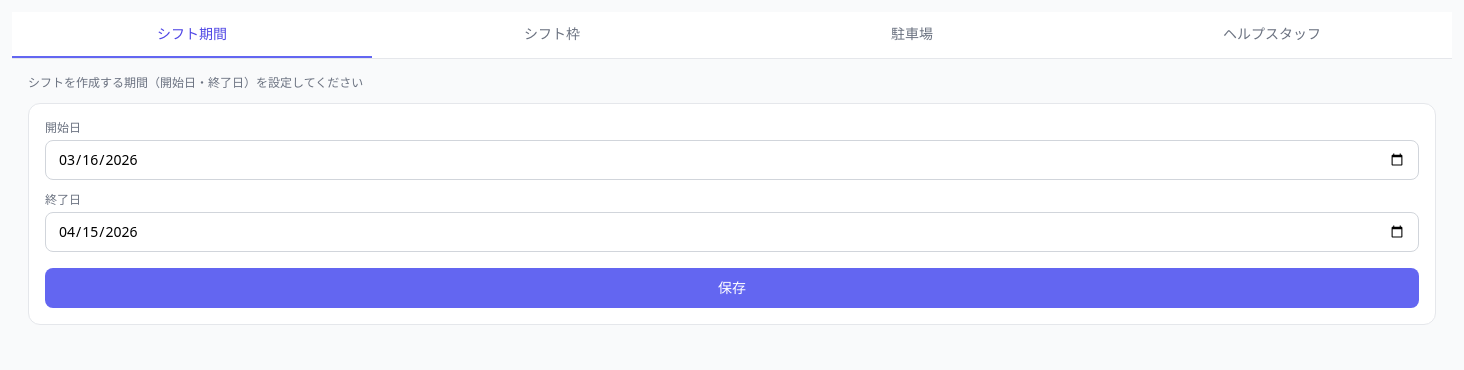
SettingsPage › シフト期間バリデーション › 開始日が終了日より後の場合はエラーが表示され保存されない
This screenshot has width=1464, height=370.
Click the button "シフト期間": point(192, 35) [12,12,372,58]
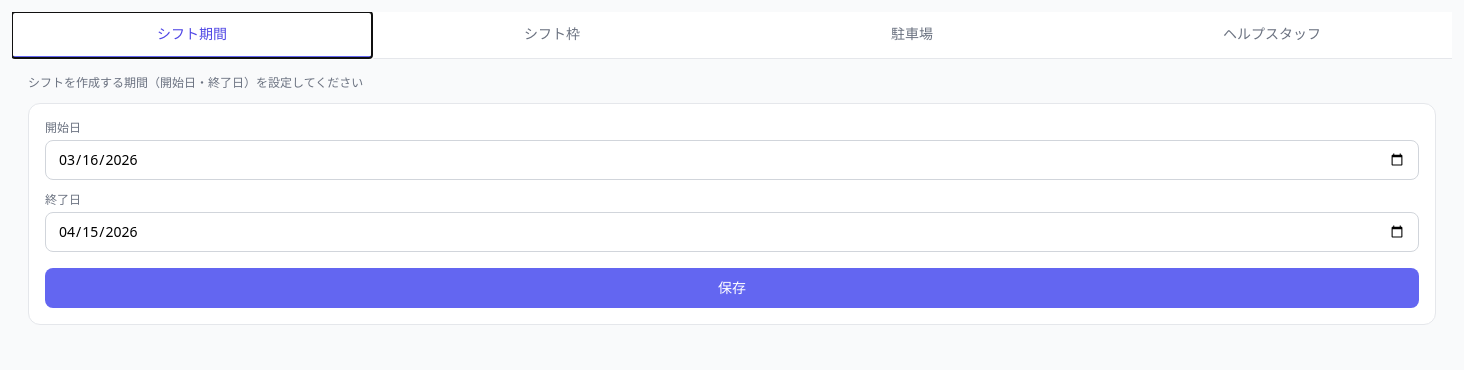
In the 1st date field: point(732, 160) [45,140,1419,180], type "2025-03-01"
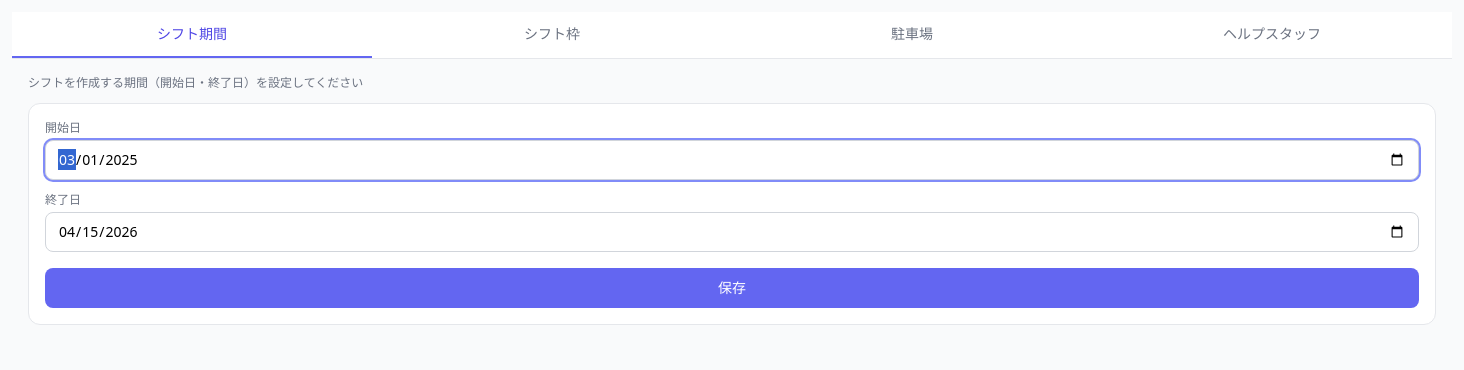
In the 2nd date field: point(732, 232) [45,212,1419,252], type "2025-02-01"
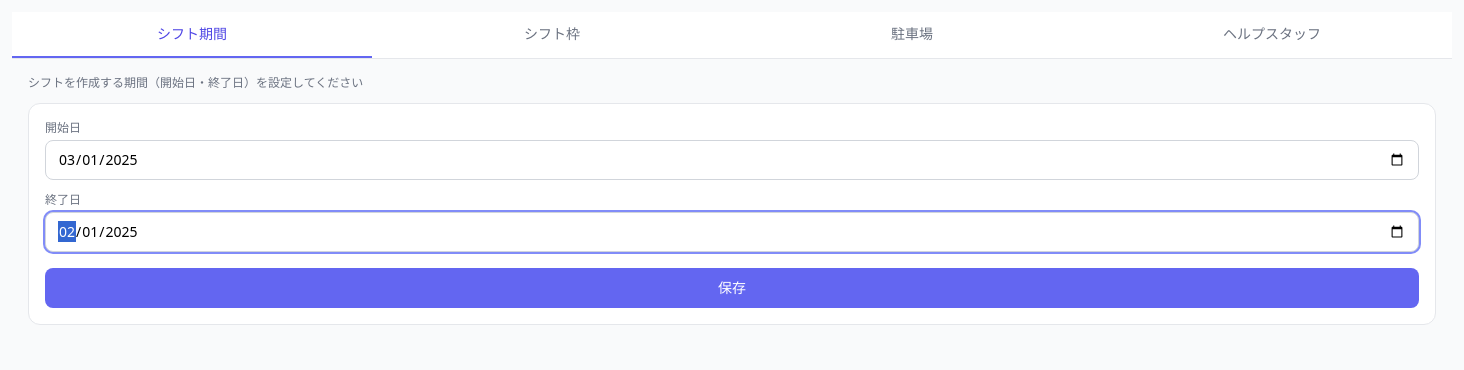
Click the button "保存": point(732, 288) [45,268,1419,308]
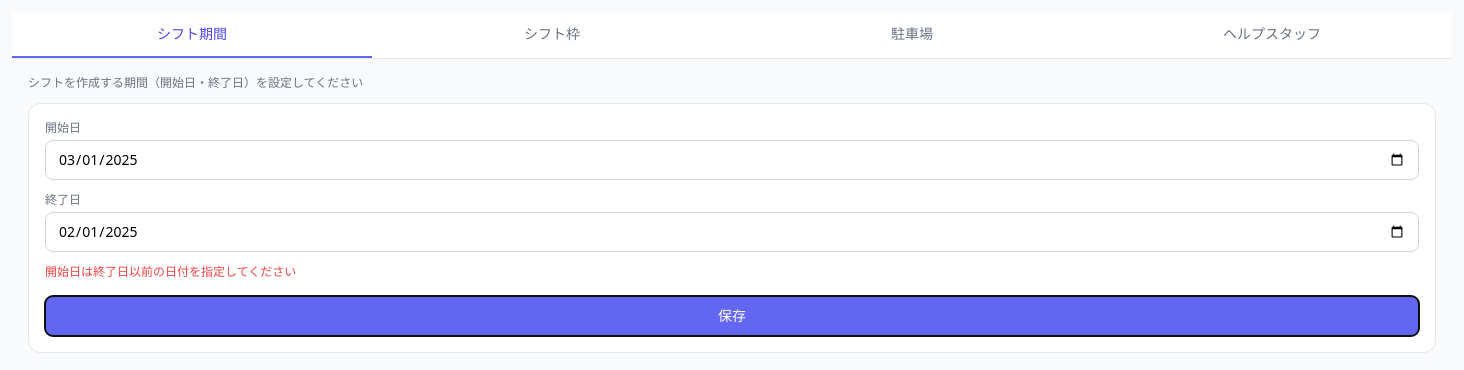
Expected: the text "開始日は終了日以前の日付を指定してください" is shown, [45,263,296,280]
